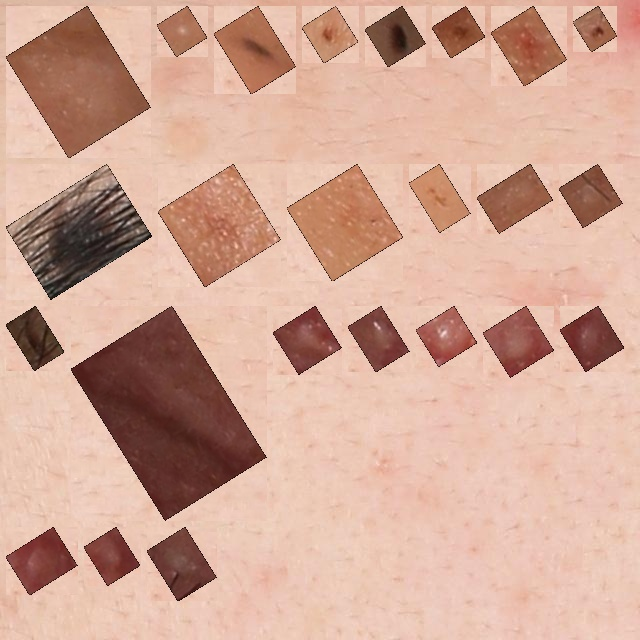hypertrophic_scar: (82, 317, 255, 509), (17, 17, 139, 147), (488, 175, 542, 222), (158, 538, 205, 590), (494, 317, 543, 366), (17, 538, 66, 584), (284, 317, 330, 363), (571, 317, 613, 360), (359, 317, 398, 361), (570, 175, 611, 216), (427, 317, 466, 355), (95, 538, 129, 574)
melasma: (169, 175, 270, 276), (298, 175, 392, 270), (420, 175, 459, 221)
nevus: (17, 175, 141, 288), (225, 17, 285, 83), (502, 17, 556, 75), (376, 17, 415, 56), (17, 317, 53, 359), (313, 17, 347, 52), (443, 17, 474, 47), (584, 17, 606, 41)
pustule: (168, 17, 196, 45)
